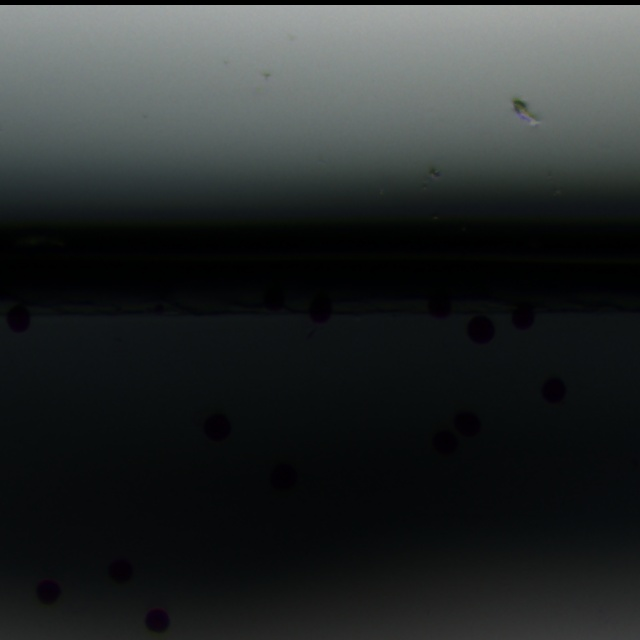viable: (468, 316, 494, 344), (204, 414, 230, 440), (271, 464, 297, 489), (310, 294, 331, 323), (455, 412, 480, 436), (7, 306, 30, 332), (542, 378, 565, 403), (433, 431, 457, 454), (146, 609, 169, 632), (37, 580, 60, 603), (109, 559, 132, 582), (512, 306, 534, 330), (429, 296, 450, 318)
